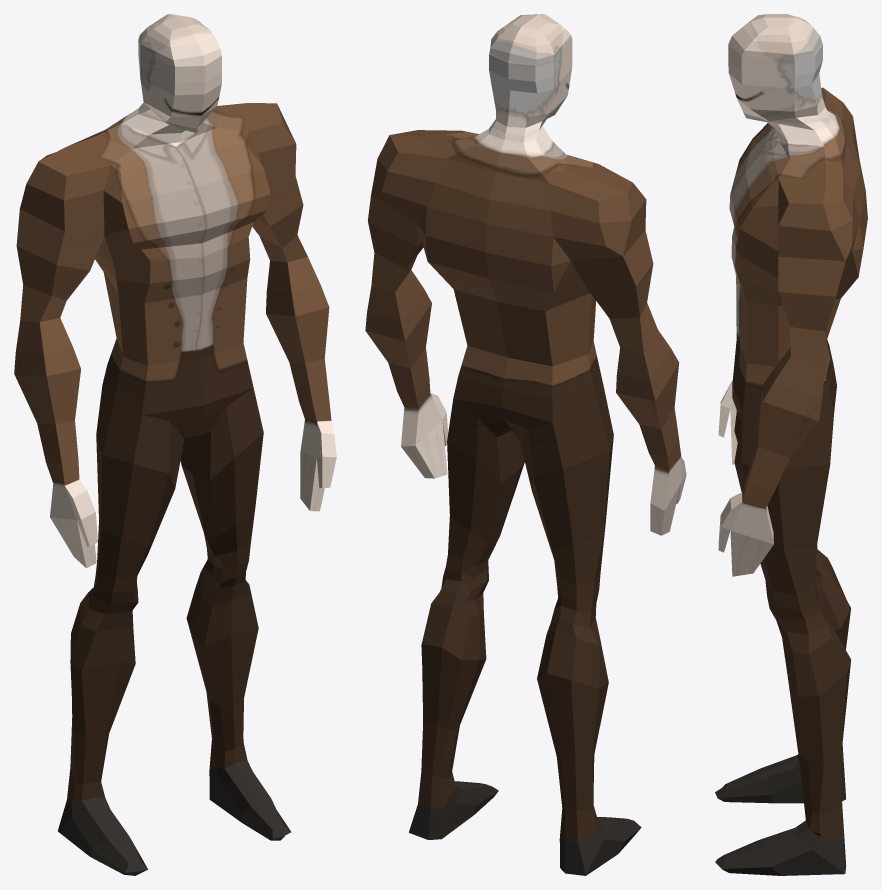
Rendered from Principal.fbx.
The picture shows the model from 3 angles, left to right: view 1: azimuth 30°, elevation 25°; view 2: azimuth 150°, elevation 25°; view 3: azimuth 270°, elevation 25°; orthographic projection.
Visible parts, largest first — view 1: Body; view 2: Body; view 3: Body.
Part boxes in pixels (x1,y1,x2,y2): Body: (14, 14, 336, 875); Body: (365, 14, 686, 875); Body: (715, 14, 867, 875).
Size of the model in its own units: 142 by 381 by 64.52.
